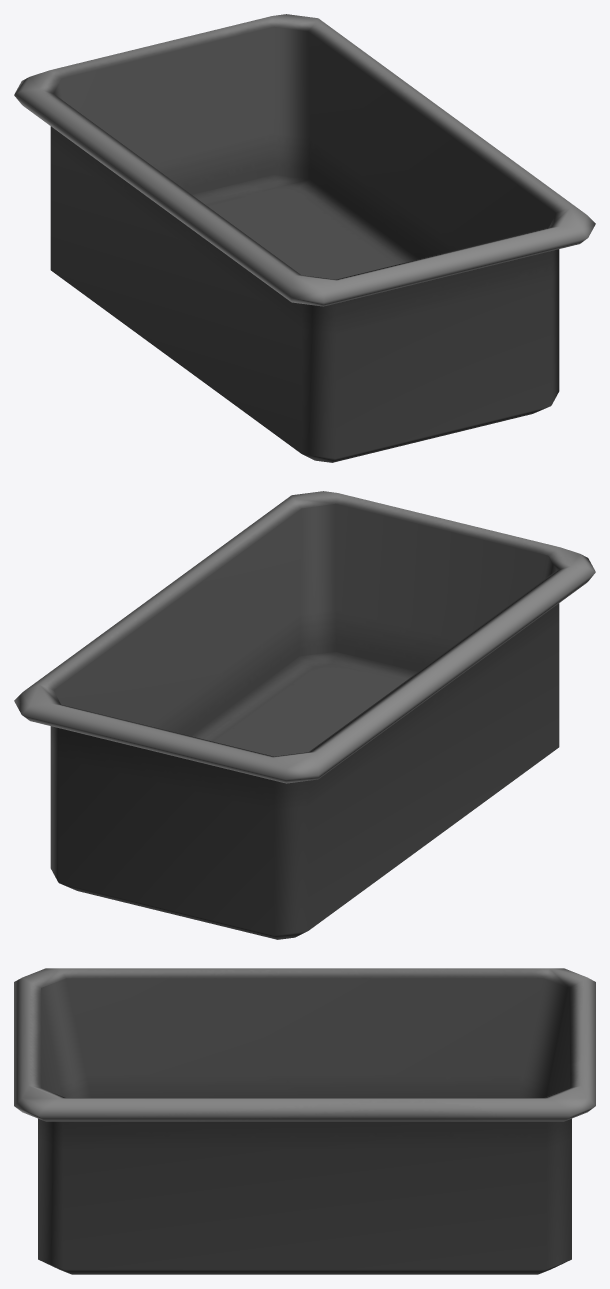
The model's file is Tray_Deep.fbx.
The picture shows the model from 3 angles, top to bottom: view 1: azimuth 30°, elevation 25°; view 2: azimuth 150°, elevation 25°; view 3: azimuth 270°, elevation 25°; orthographic projection. The views are drawn at different scales.
Visible parts, largest first — view 1: Tray_Deep; view 2: Tray_Deep; view 3: Tray_Deep.
Part boxes in pixels (bbox=[...]): Tray_Deep: bbox=[14, 14, 595, 462]; Tray_Deep: bbox=[14, 491, 595, 939]; Tray_Deep: bbox=[14, 968, 595, 1274].
Bounding box in the file's own units: 41.76 × 25.75 × 71.76.
